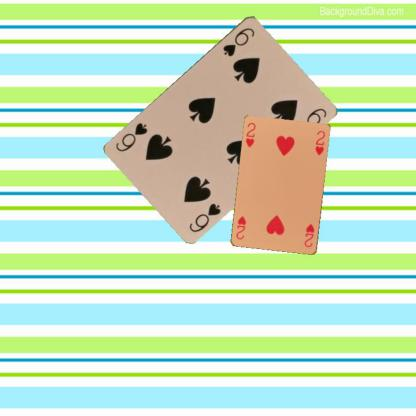2h: (243, 120, 257, 149), (302, 221, 316, 249)
6s: (220, 24, 256, 58), (186, 199, 222, 233)
